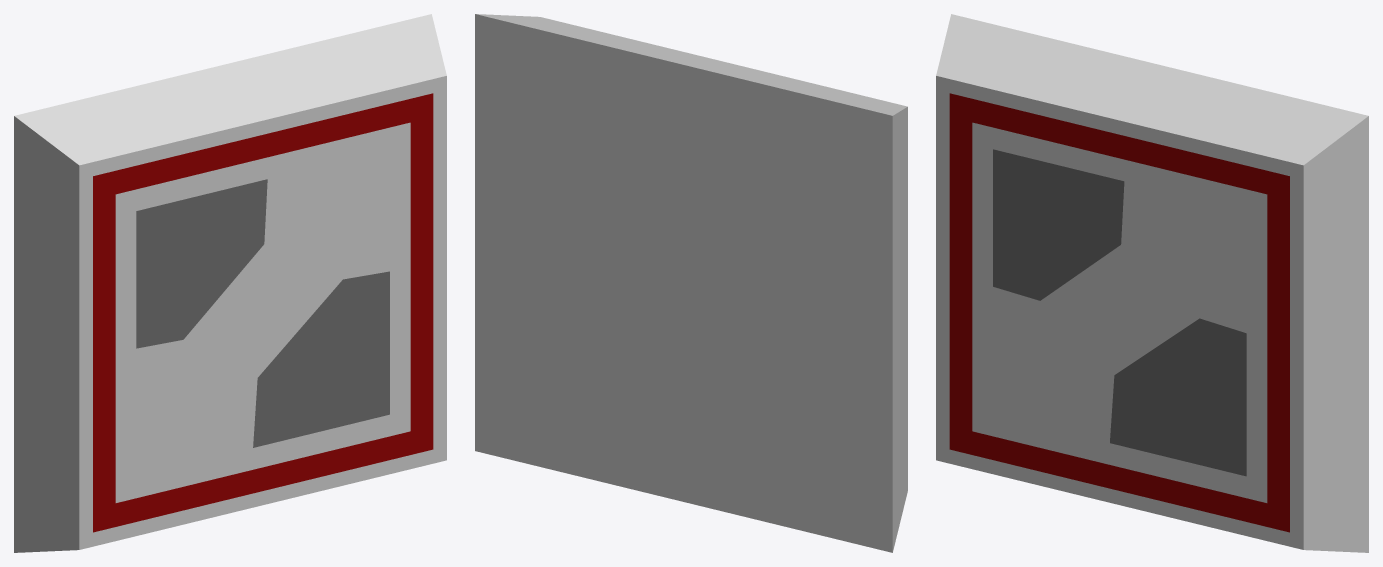
The model's file is SciFi_Semiotic_Intercom_01.fbx.
The picture shows the model from 3 angles, left to right: view 1: azimuth 30°, elevation 25°; view 2: azimuth 150°, elevation 25°; view 3: azimuth 330°, elevation 25°; orthographic projection.
Visible parts, largest first — view 1: Model; view 2: Model; view 3: Model.
Part boxes in pixels (left/top/right/bottom): Model: left=14, top=14, right=446, bottom=552; Model: left=475, top=14, right=907, bottom=552; Model: left=936, top=14, right=1368, bottom=552.
Bounding box in the file's own units: 251 × 251 × 41.83.
